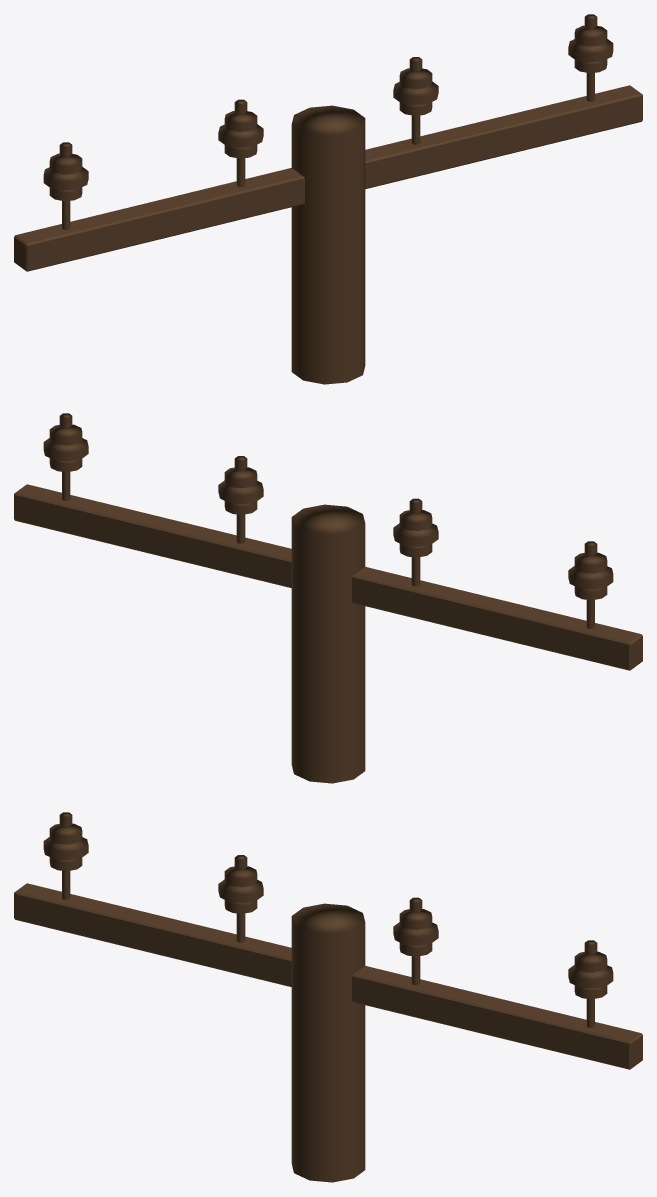
Rendered from crossarm_00.obj.
The picture shows the model from 3 angles, top to bottom: view 1: azimuth 30°, elevation 25°; view 2: azimuth 150°, elevation 25°; view 3: azimuth 330°, elevation 25°; orthographic projection.
Visible parts, largest first — view 1: crossarm_00; view 2: crossarm_00; view 3: crossarm_00.
Boxes of the visible parts, <box> form: crossarm_00: <box>14,14,642,384</box>; crossarm_00: <box>14,413,642,783</box>; crossarm_00: <box>14,812,642,1182</box>.
Bounding box in the file's own units: 1.7 × 0.7571 × 0.18.
